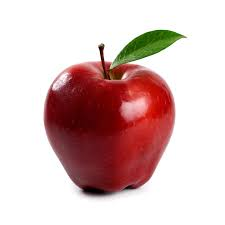apple: (44, 65, 174, 200)
